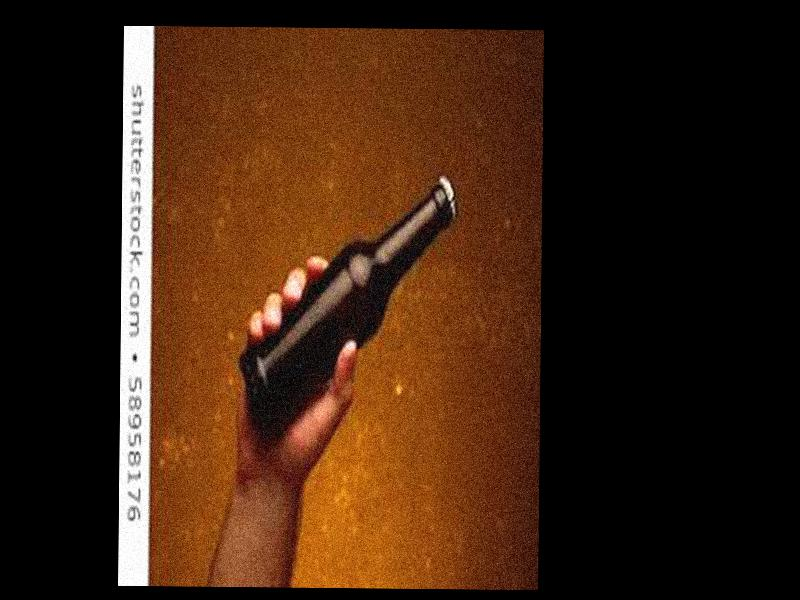Beer: (238, 170, 458, 452)
